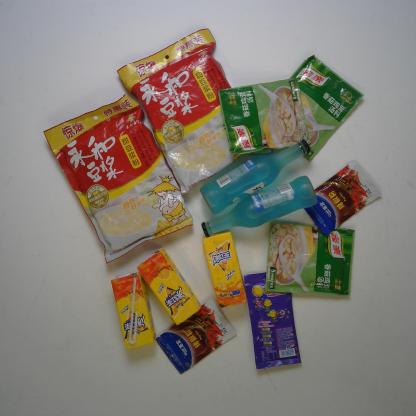Alcohol: (199, 137, 312, 215), (200, 174, 318, 238)
Candy: (242, 270, 304, 371)
Drink: (135, 246, 203, 327), (110, 270, 158, 353), (200, 228, 247, 310)
Instant Drink: (42, 93, 197, 266), (117, 27, 274, 196)
Seasoner: (288, 55, 366, 163), (216, 76, 312, 155), (263, 219, 357, 298), (304, 158, 384, 238), (155, 298, 237, 376)
